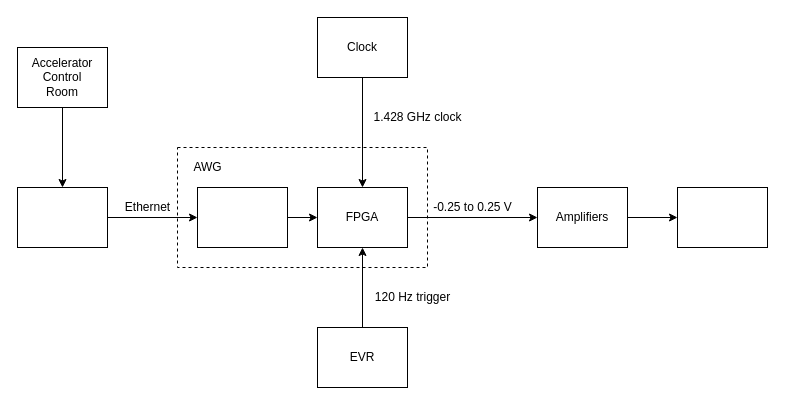
Some shapes in this 785 by 405 pixel diagram are drawn without their labels. Here are the shapes that lost their labels. From the top down, the centre of each, then its label:
At point (62, 217): "Linux OS lume-epics bokeh".
At point (242, 217): "Windows 10".
At point (722, 217): "Kickers".
